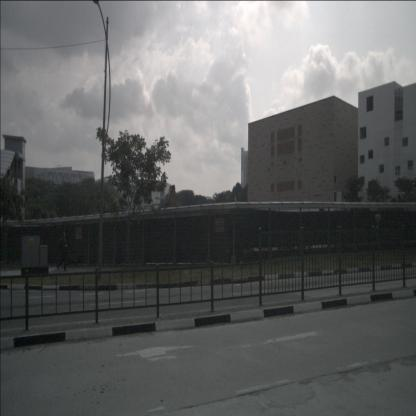human-pedestrian-adult: (56, 230, 68, 273)
